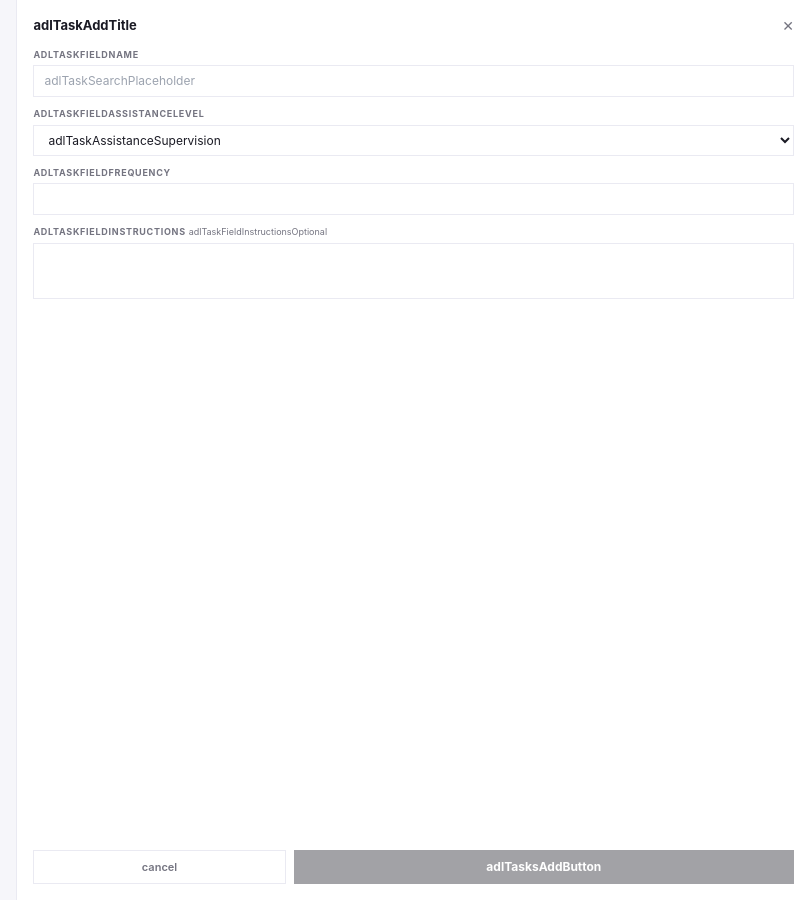
AddTaskPanel › filters templates by typed value (case-insensitive)
The width and height of the screenshot is (810, 900).
Type "bath" into the field with placeholder "adlTaskSearchPlaceholder" at {"x": 414, "y": 81}, box [33,65,794,97]
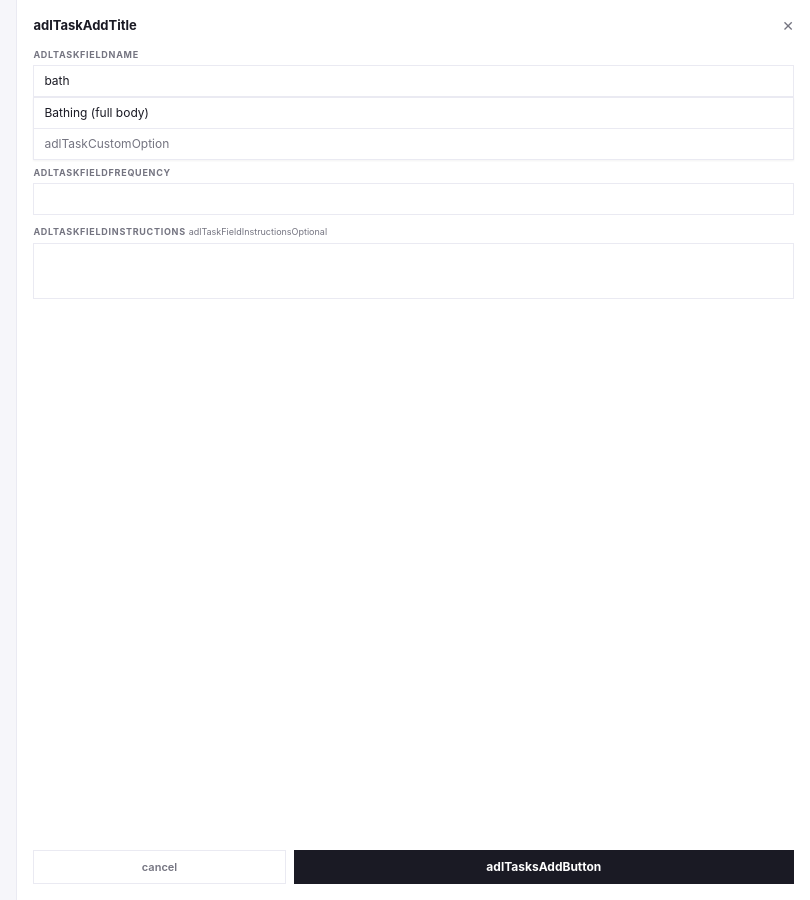
Result: the button "Bathing (full body)" is shown at [34,98,793,128]
